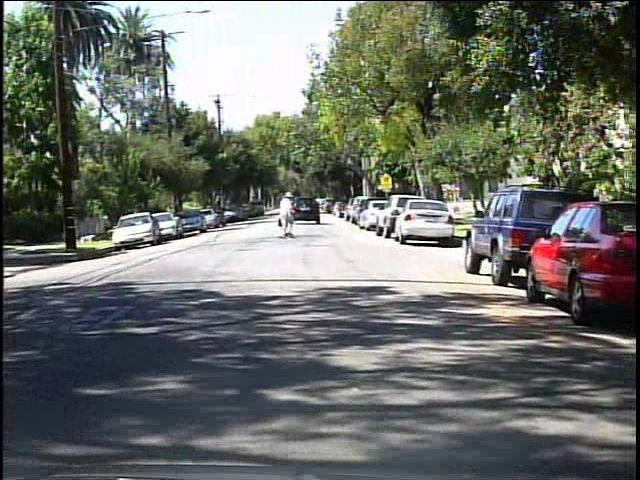person: (273, 192, 301, 242)
